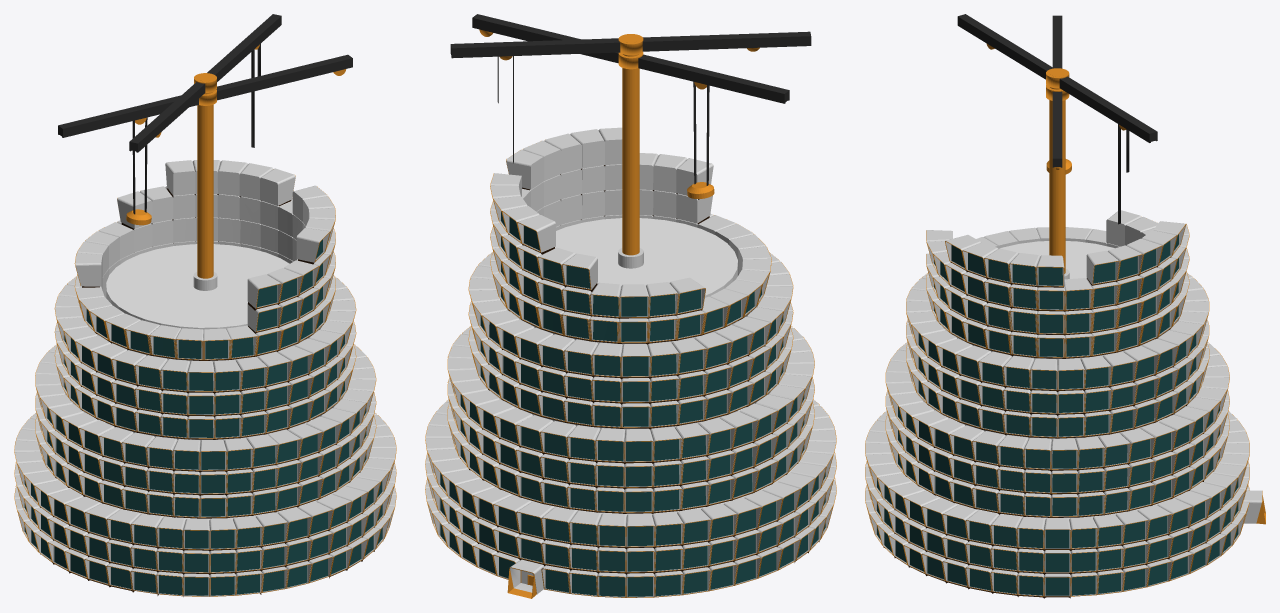
File: EnergyVault_01_240902.fbx
The picture shows the model from 3 angles, left to right: view 1: azimuth 30°, elevation 25°; view 2: azimuth 150°, elevation 25°; view 3: azimuth 270°, elevation 25°; orthographic projection. The views are drawn at different scales.
Parts seen in each view (by area): view 1: VaultHouse_row2, VaultHouse_row3-3, VaultHouse_row1-2, VaultHouse_row4-1.001, VaultHouse_row4-1, VaultHouse_inside-Floors, VaultHouse_LOD0, Crane-Arm-1, VaultHouse_Crane, Crane-Arm-2, VaultHouse_Crane_joint.002; view 2: VaultHouse_row2, VaultHouse_row3-3, VaultHouse_row1-2, VaultHouse_row4-1, VaultHouse_row4-1.001, VaultHouse_LOD0, VaultHouse_inside-Floors, Crane-Arm-2, Crane-Arm-1, VaultHouse_Crane, VaultHouse_Crane_joint.002, VaultHouse_Moving.001; view 3: VaultHouse_row2, VaultHouse_row3-3, VaultHouse_row1-2, VaultHouse_row4-1, VaultHouse_row4-1.001, VaultHouse_LOD0, Crane-Arm-2, VaultHouse_Crane, VaultHouse_inside-Floors, Crane-Arm-1.
Part boxes in pixels (box(x1,y1,x2,y2)): VaultHouse_row2: box(35, 344, 376, 518); VaultHouse_row3-3: box(54, 276, 356, 439); VaultHouse_row1-2: box(14, 412, 396, 574); VaultHouse_row4-1.001: box(74, 160, 335, 360); VaultHouse_row4-1: box(75, 185, 335, 360); VaultHouse_inside-Floors: box(43, 244, 366, 519); VaultHouse_LOD0: box(14, 485, 396, 596); Crane-Arm-1: box(58, 54, 352, 137); VaultHouse_Crane: box(193, 74, 217, 290); Crane-Arm-2: box(129, 14, 281, 152); VaultHouse_Crane_joint.002: box(126, 117, 151, 225); VaultHouse_row2: box(447, 326, 814, 513); VaultHouse_row3-3: box(468, 252, 793, 429); VaultHouse_row1-2: box(425, 399, 836, 574); VaultHouse_row4-1: box(490, 127, 771, 344); VaultHouse_row4-1.001: box(490, 173, 771, 343); VaultHouse_LOD0: box(425, 477, 836, 598); VaultHouse_inside-Floors: box(456, 218, 805, 515); Crane-Arm-2: box(450, 31, 811, 58); Crane-Arm-1: box(472, 14, 789, 103); VaultHouse_Crane: box(618, 35, 643, 268); VaultHouse_Crane_joint.002: box(687, 81, 714, 198); VaultHouse_Moving.001: box(541, 507, 576, 544); VaultHouse_row2: box(885, 342, 1229, 517); VaultHouse_row3-3: box(906, 273, 1209, 438); VaultHouse_row1-2: box(865, 411, 1249, 574); VaultHouse_row4-1: box(926, 227, 1189, 358); VaultHouse_row4-1.001: box(926, 210, 1189, 358); VaultHouse_LOD0: box(865, 484, 1265, 598); Crane-Arm-2: box(957, 14, 1157, 142); VaultHouse_Crane: box(1049, 69, 1069, 279); VaultHouse_inside-Floors: box(894, 241, 1220, 519); Crane-Arm-1: box(1052, 15, 1062, 167).
Size of what is drawn, in the model's own units: 3014 by 3866 by 3138.
